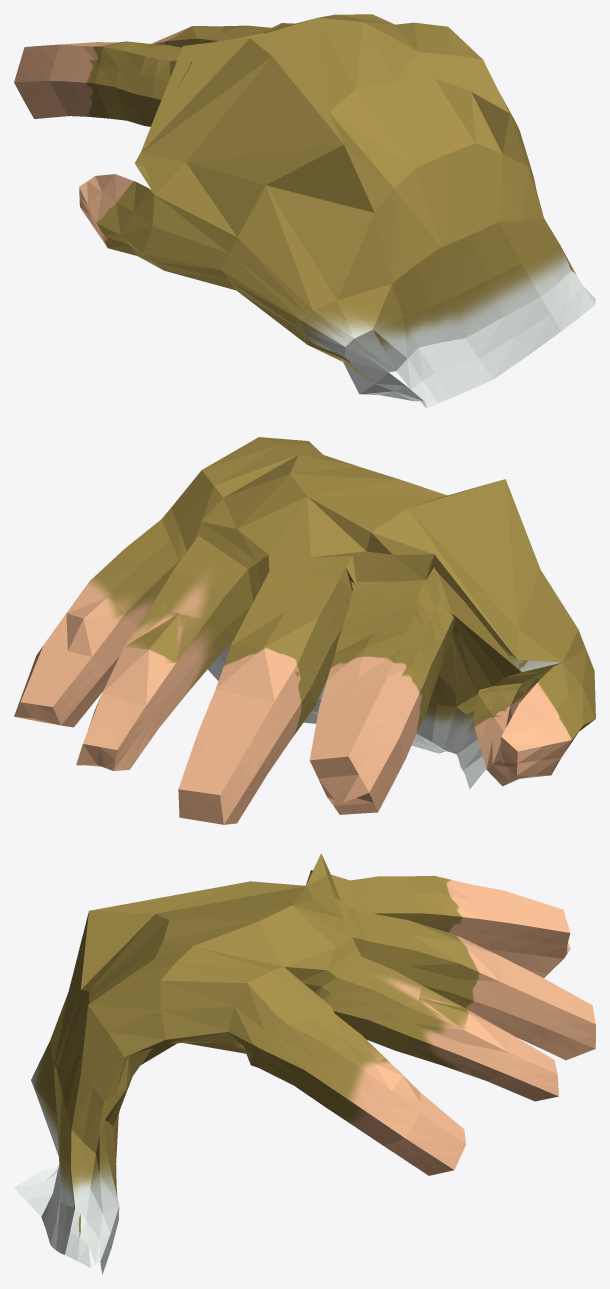
File: flexion0049.obj
3 renders of one model, top to bottom at view 1: azimuth 30°, elevation 25°; view 2: azimuth 150°, elevation 25°; view 3: azimuth 270°, elevation 25°, orthographic. The views are drawn at different scales.
Parts seen in each view (by area): view 1: Hand; view 2: Hand; view 3: Hand.
Boxes of the visible parts, x1,y1,x2,y2 form: Hand: [14, 14, 595, 408]; Hand: [14, 437, 595, 824]; Hand: [14, 853, 595, 1273].
Bounding box in the file's own units: 3.27 × 2.32 × 3.87.
